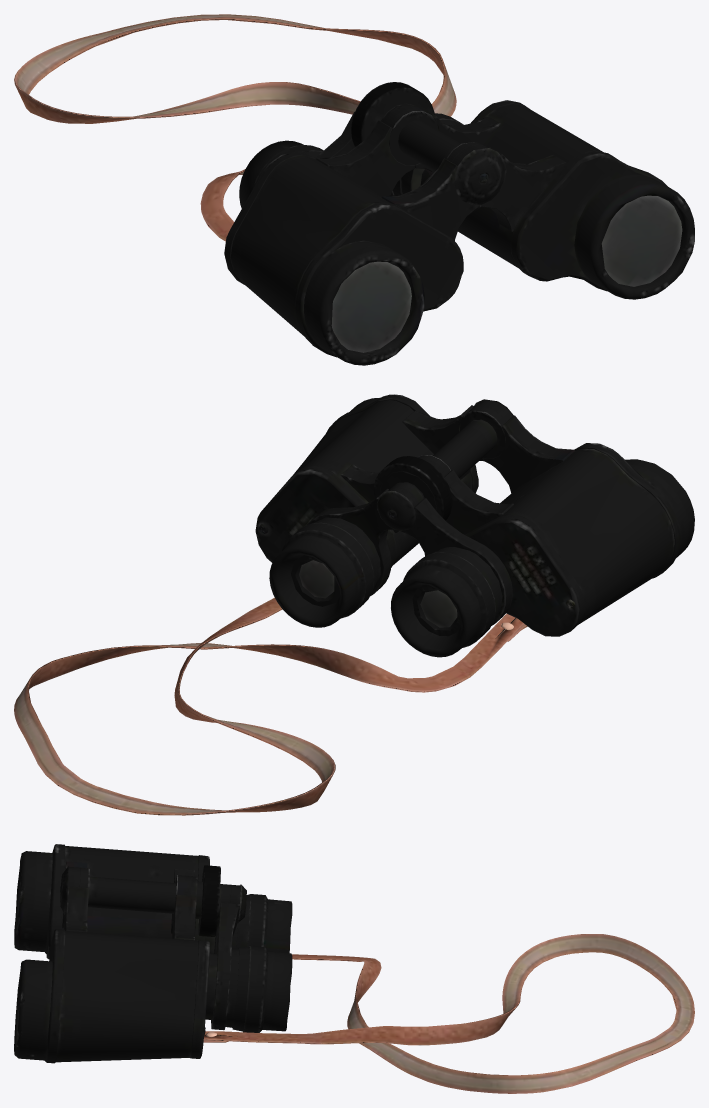
File: binoculars.8d2f5417.glb
3 renders of one model, top to bottom at view 1: azimuth 30°, elevation 25°; view 2: azimuth 150°, elevation 25°; view 3: azimuth 270°, elevation 25°, orthographic. The views are drawn at different scales.
Visible parts, largest first — view 1: binoculars_right, binoculars_left, binoculars_strap, binoculars_column; view 2: binoculars_right, binoculars_left, binoculars_strap, binoculars_column; view 3: binoculars_left, binoculars_strap, binoculars_right, binoculars_column.
Part boxes in pixels (x1=…): binoculars_right: x1=224, y1=111, x2=481, y2=365; binoculars_left: x1=391, y1=100, x2=694, y2=299; binoculars_strap: x1=14, y1=14, x2=456, y2=241; binoculars_column: x1=351, y1=82, x2=506, y2=204; binoculars_right: x1=391, y1=415, x2=694, y2=657; binoculars_left: x1=255, y1=394, x2=483, y2=627; binoculars_strap: x1=14, y1=597, x2=527, y2=815; binoculars_column: x1=374, y1=399, x2=513, y2=532; binoculars_left: x1=14, y1=886, x2=292, y2=1063; binoculars_strap: x1=203, y1=934, x2=694, y2=1093; binoculars_right: x1=14, y1=844, x2=292, y2=959; binoculars_column: x1=60, y1=865, x2=246, y2=936.
Bounding box in the file's own units: 0.4174 × 0.1652 × 0.72.
2 materials, 2 textured.
